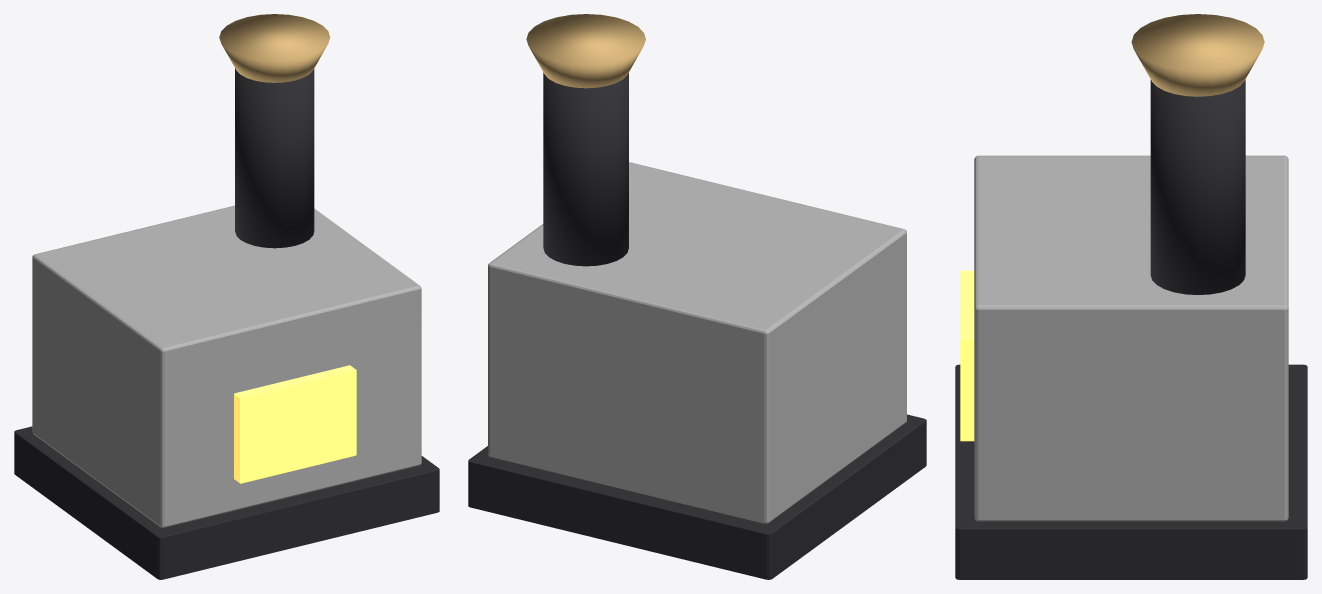
File: reactor.glb
The picture shows the model from 3 angles, left to right: view 1: azimuth 30°, elevation 25°; view 2: azimuth 150°, elevation 25°; view 3: azimuth 270°, elevation 25°; orthographic projection. The views are drawn at different scales.
Visible parts, largest first — view 1: machines/reactor; view 2: machines/reactor; view 3: machines/reactor.
Part boxes in pixels (bbox=[...]): machines/reactor: bbox=[14, 14, 439, 579]; machines/reactor: bbox=[468, 14, 926, 579]; machines/reactor: bbox=[955, 14, 1307, 579].
Size of the model in its own units: 0.82 by 1.16 by 0.74.
